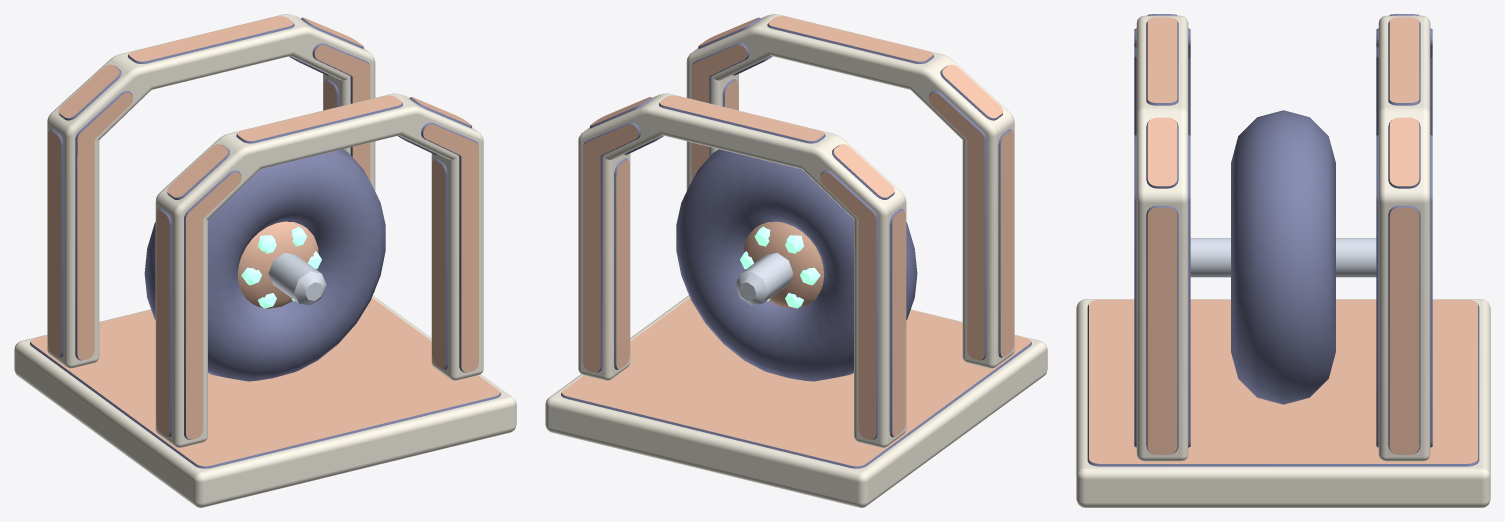
The model's file is R4X_MovementDurabilityBooster.fbx.
3 renders of one model, left to right at view 1: azimuth 30°, elevation 25°; view 2: azimuth 150°, elevation 25°; view 3: azimuth 270°, elevation 25°, orthographic. The views are drawn at different scales.
Visible parts, largest first — view 1: R4X_MovementDurabilityBooster_Body, R4X_MovementDurabilityBooster_Wheel; view 2: R4X_MovementDurabilityBooster_Body, R4X_MovementDurabilityBooster_Wheel; view 3: R4X_MovementDurabilityBooster_Body, R4X_MovementDurabilityBooster_Wheel.
Part boxes in pixels (box(x1,y1,x2,y2)): R4X_MovementDurabilityBooster_Body: box(14, 14, 516, 507); R4X_MovementDurabilityBooster_Wheel: box(144, 149, 385, 381); R4X_MovementDurabilityBooster_Body: box(545, 14, 1047, 507); R4X_MovementDurabilityBooster_Wheel: box(676, 149, 917, 381); R4X_MovementDurabilityBooster_Body: box(1076, 14, 1490, 507); R4X_MovementDurabilityBooster_Wheel: box(1231, 110, 1335, 404).
Bounding box in the file's own units: 0.514 × 0.5 × 0.514.
